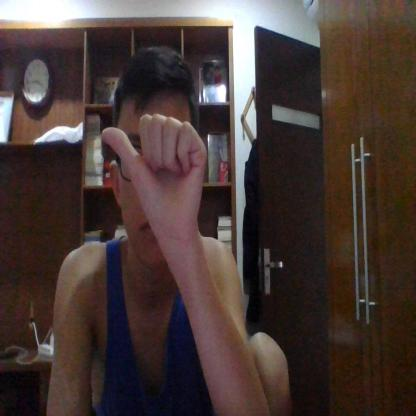right: (99, 109, 208, 239)
